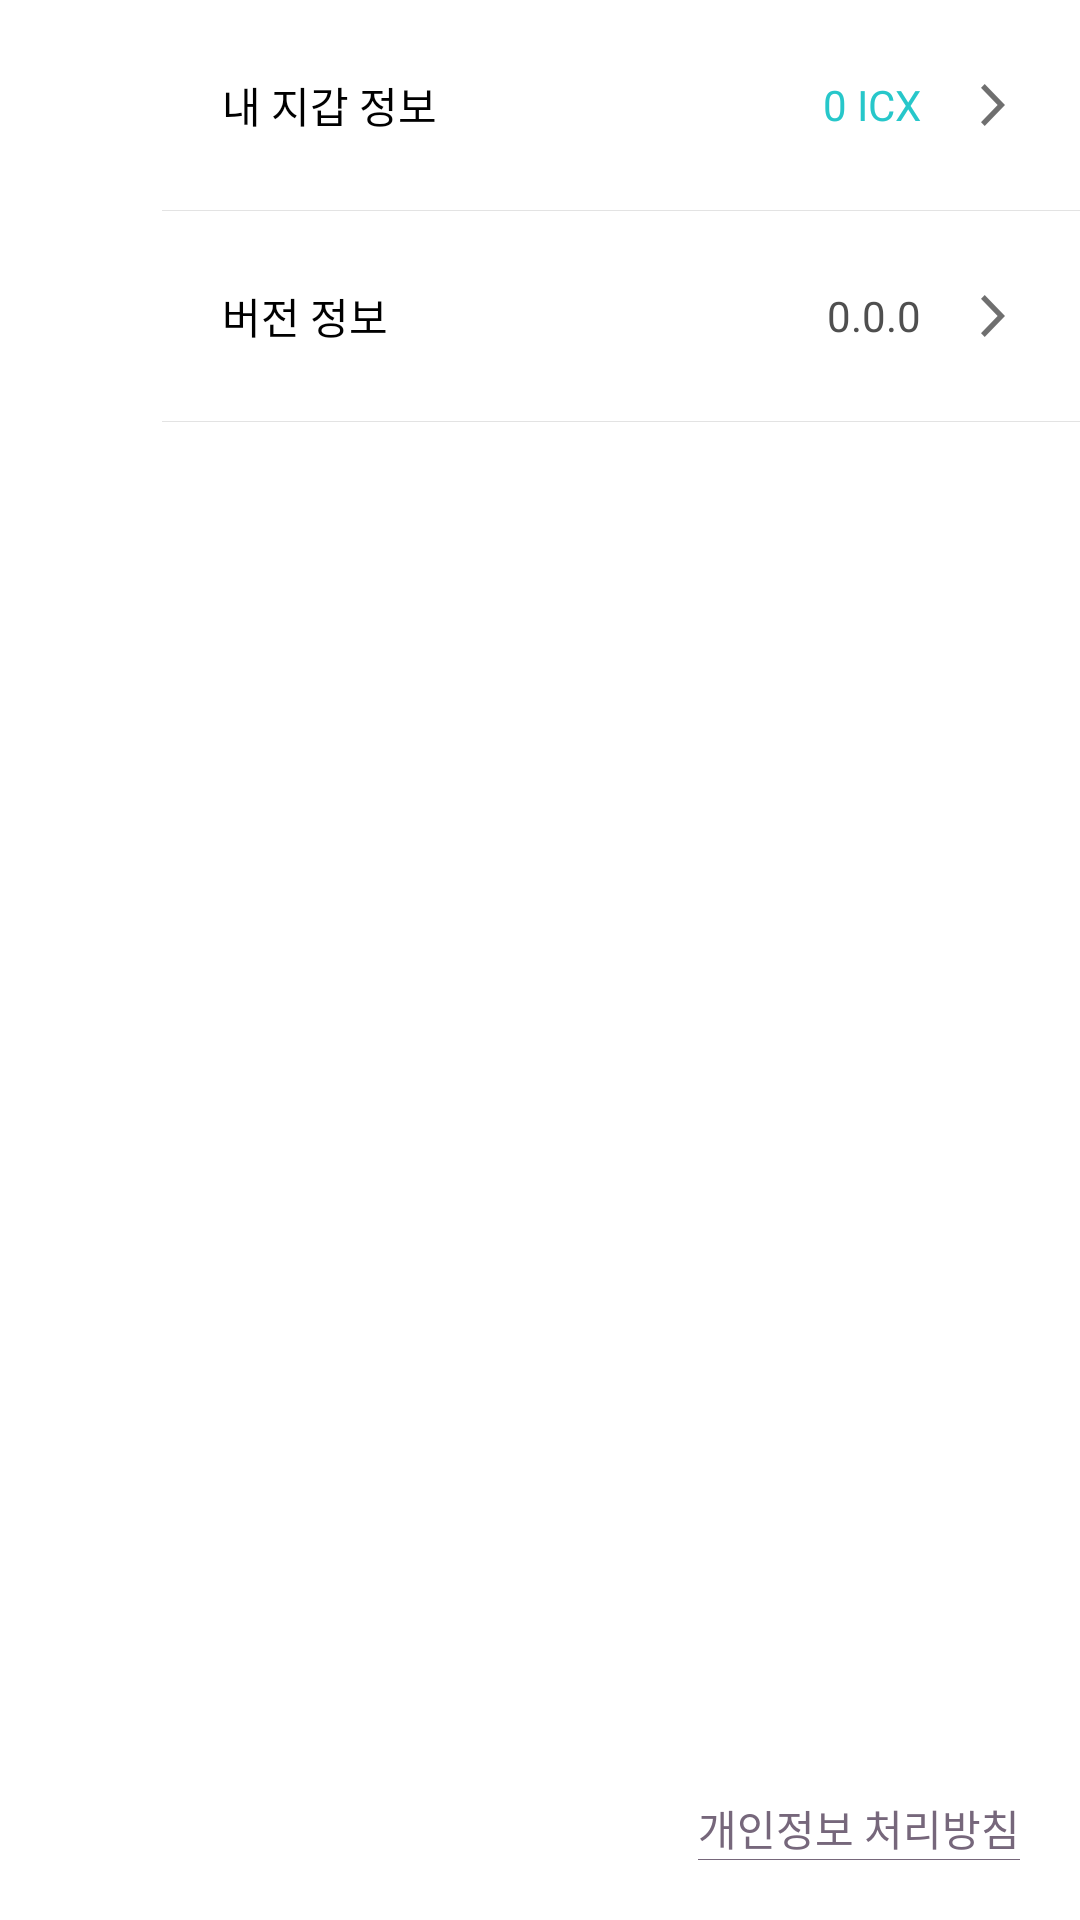

Icons on this 1080*1920 Android screen, each with the point to tap as (x=x, y=y):
more: (x=993, y=105), (x=993, y=316)
